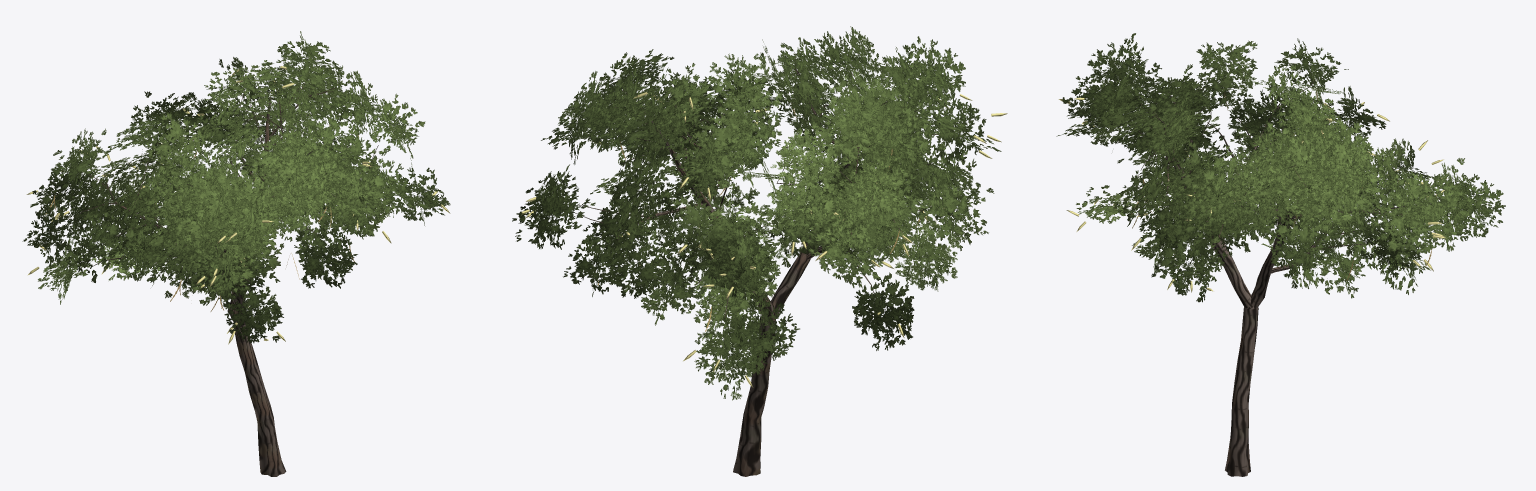
Rendered from young-a.lod0.glb.
3 renders of one model, left to right at view 1: azimuth 30°, elevation 25°; view 2: azimuth 150°, elevation 25°; view 3: azimuth 270°, elevation 25°, orthographic. The views are drawn at different scales.
Parts seen in each view (by area): view 1: foliage, bark, flowers; view 2: foliage, bark, flowers; view 3: foliage, bark, flowers.
Boxes of the visible parts, x1,y1,x2,y2 form: foliage: [22, 31, 450, 343]; bark: [74, 82, 378, 476]; flowers: [26, 66, 450, 344]; foliage: [512, 26, 1001, 400]; bark: [574, 52, 938, 476]; flowers: [517, 92, 1007, 387]; foliage: [1056, 33, 1505, 302]; bark: [1131, 76, 1440, 476]; flowers: [1058, 89, 1447, 292].
Size of the model in its own units: 3.78 by 3.8 by 3.91.
Materials: 5 (3 with a texture image).
